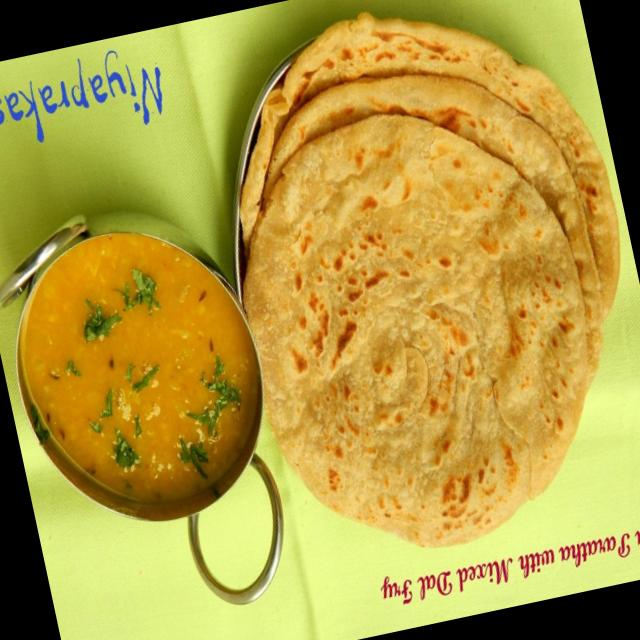dal: (0, 186, 284, 552)
roti: (190, 0, 640, 578)
